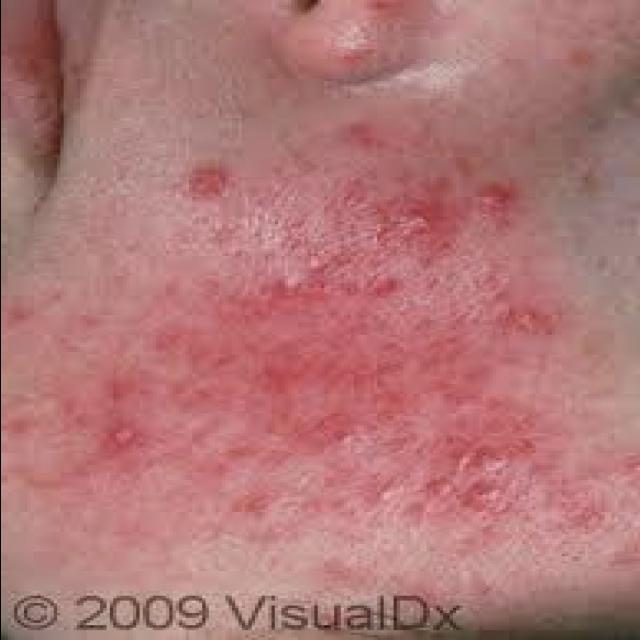Acne: (363, 443, 526, 513), (490, 304, 570, 340), (388, 202, 442, 245), (180, 164, 231, 202), (472, 178, 518, 216), (340, 117, 386, 155), (472, 268, 516, 304), (317, 419, 361, 454), (236, 486, 285, 516), (423, 471, 464, 505), (366, 268, 404, 304), (265, 268, 309, 298), (99, 425, 144, 453), (471, 447, 516, 475), (370, 474, 407, 504), (463, 482, 499, 512)
